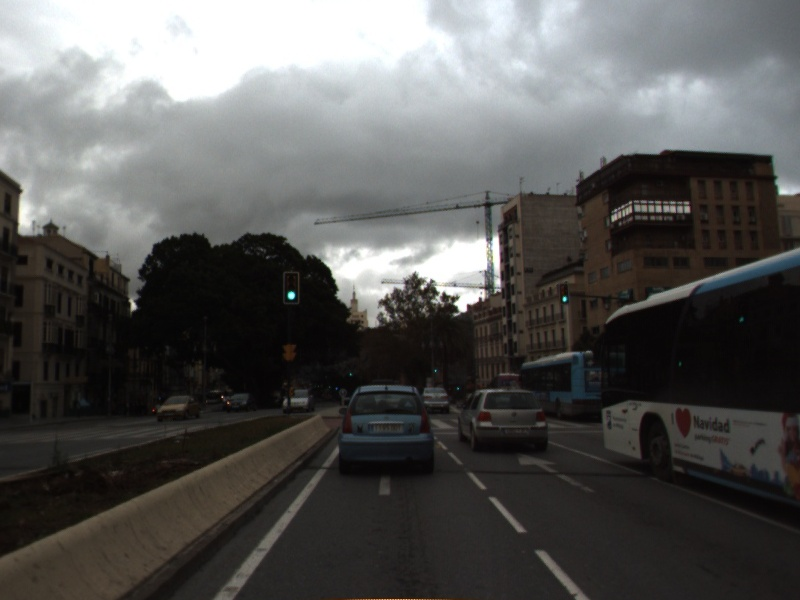STRAIGHT: (515, 450, 597, 495)
